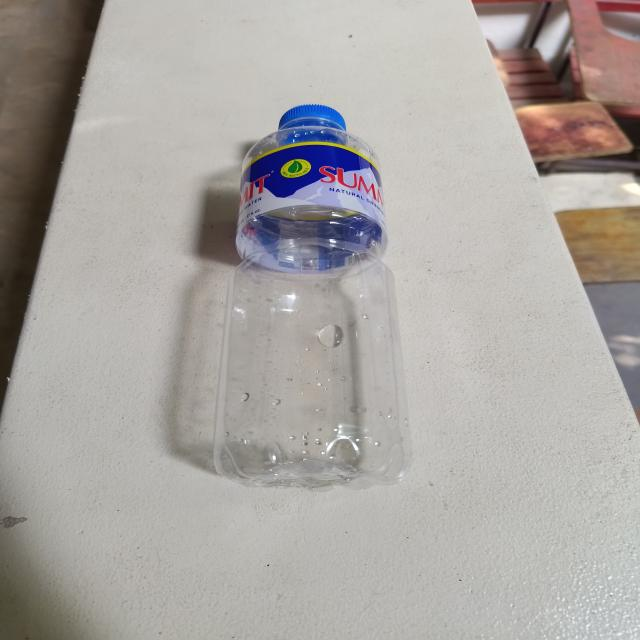Bottle: (211, 105, 411, 490)
